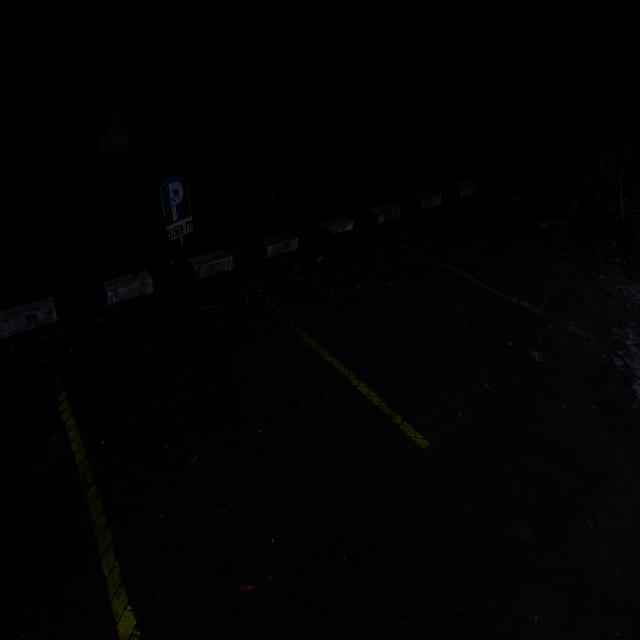empty: (48, 281, 423, 630), (259, 237, 580, 451)
